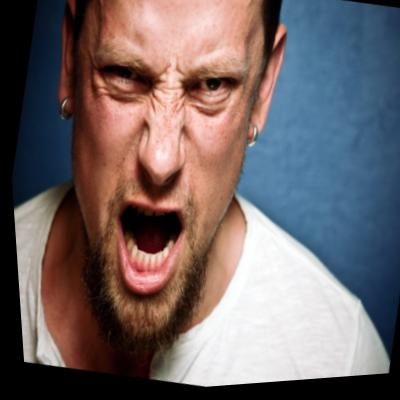angry: (14, 0, 285, 359)
